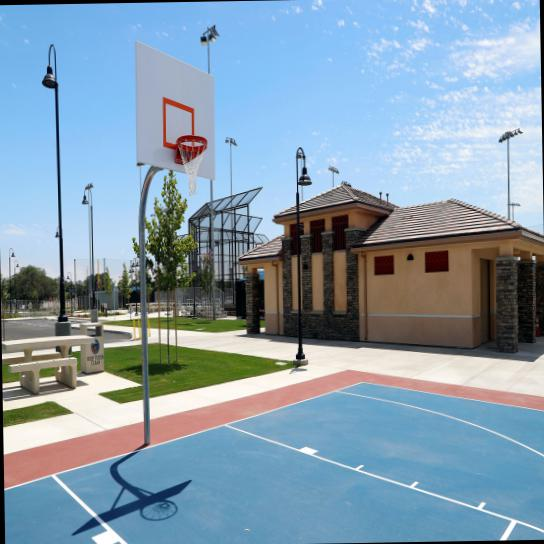basketball-hoop: (176, 133, 208, 196)
